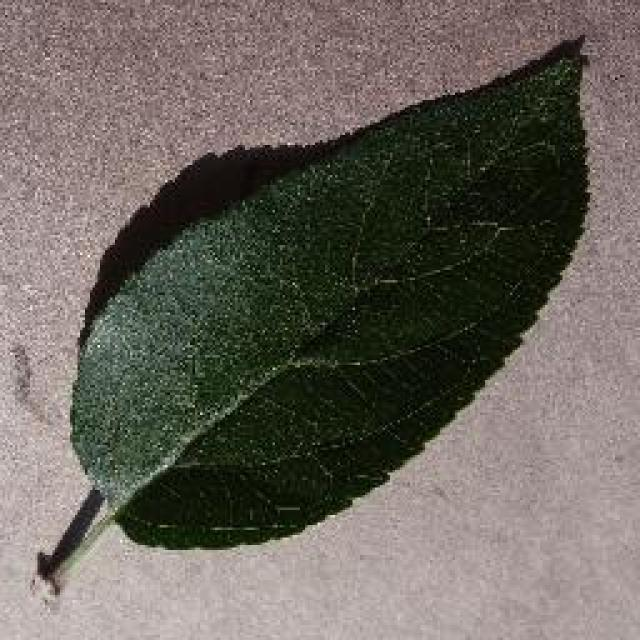apple scab disease: (30, 30, 592, 598)
